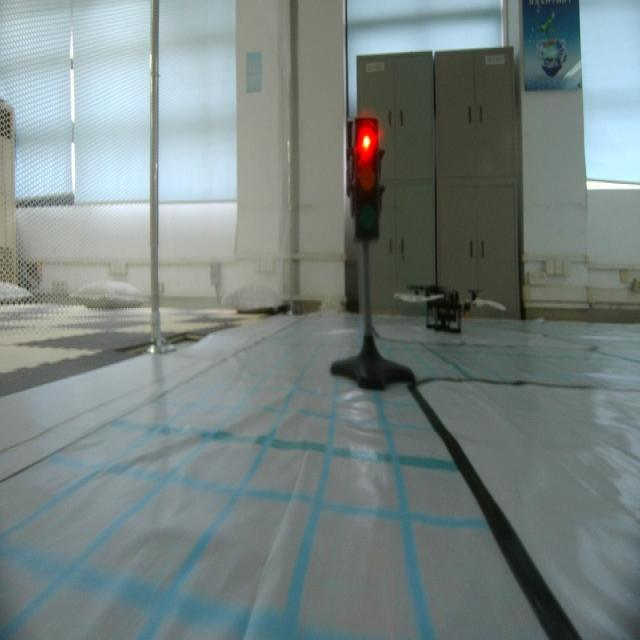red: (345, 113, 385, 241)
